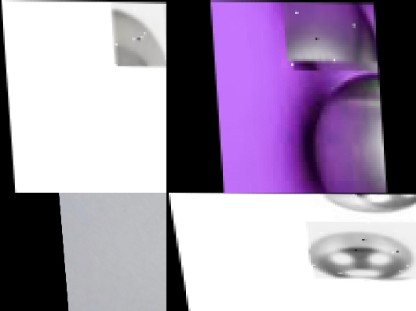ironball: (288, 60, 384, 193), (302, 221, 415, 279), (284, 1, 377, 66), (109, 1, 166, 64), (298, 193, 415, 213)
